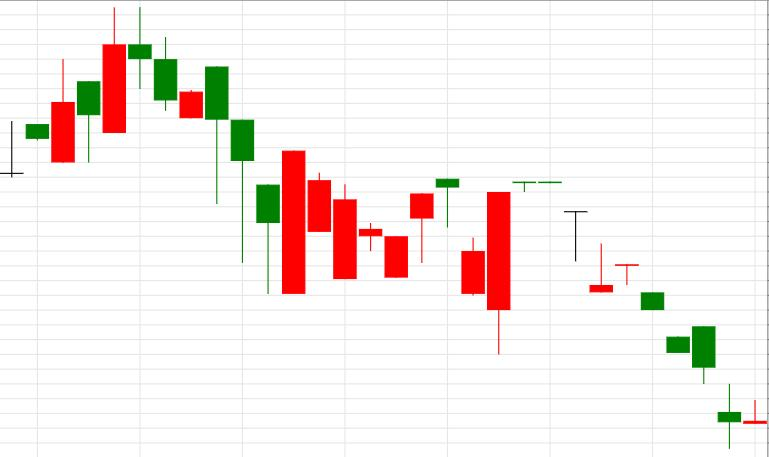bullish_engulfing_rise: (128, 6, 306, 294)
hammer_rise: (128, 7, 279, 294), (128, 6, 254, 263)
